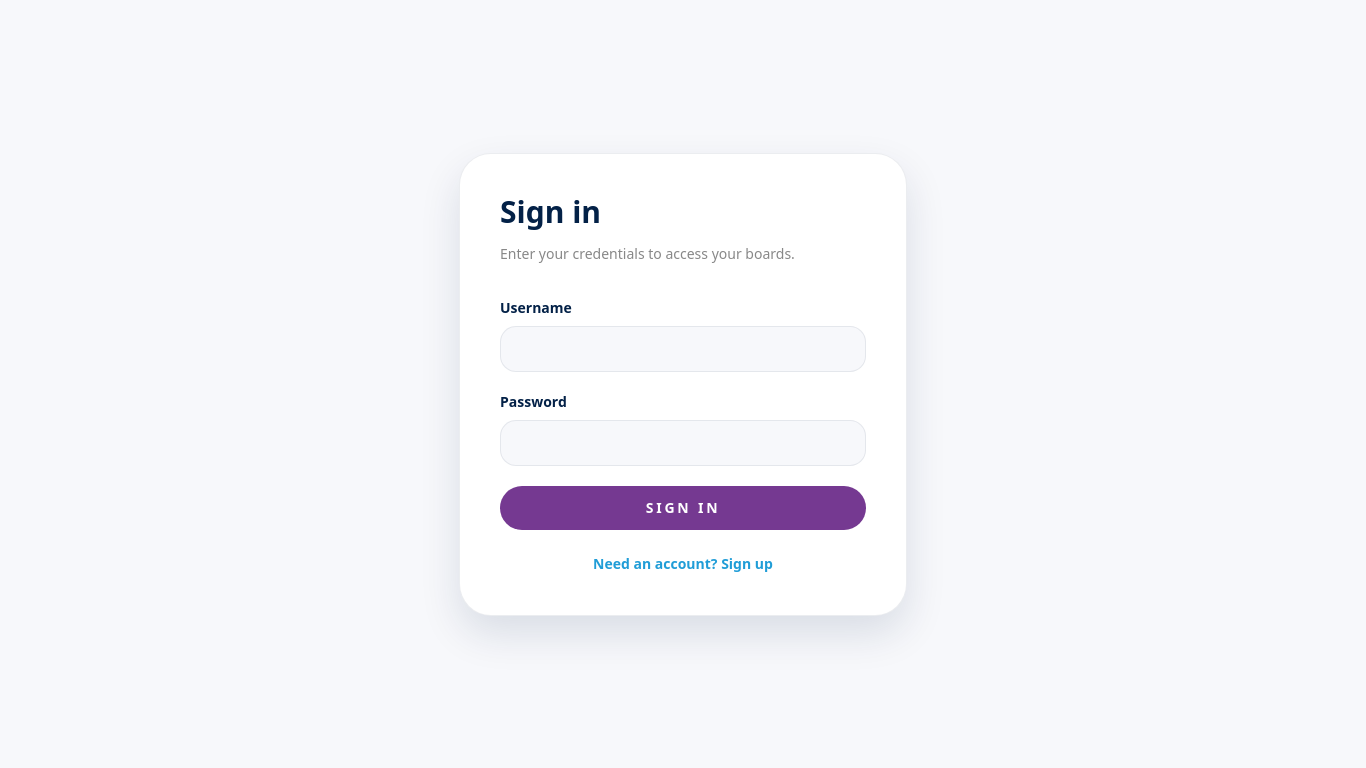
LoginGate › returns to login mode (not signup) after logging out
Expected: the heading "Sign in" is shown, [500,190,601,232]
Click the button "Need an account? Sign up" at {"x": 683, "y": 564}, box [500,554,866,574]
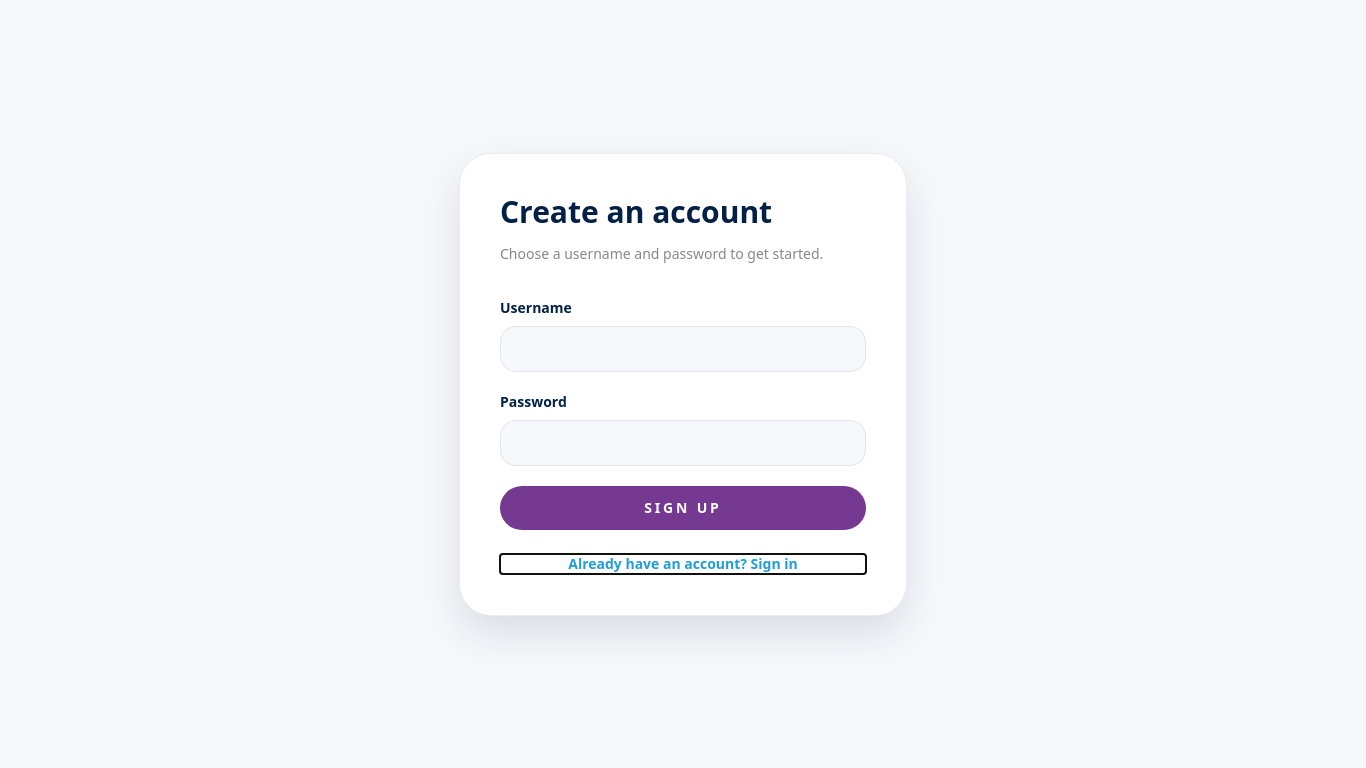
Type "newperson" into the field labelled "Username" at {"x": 683, "y": 348}, box [500,326,866,372]
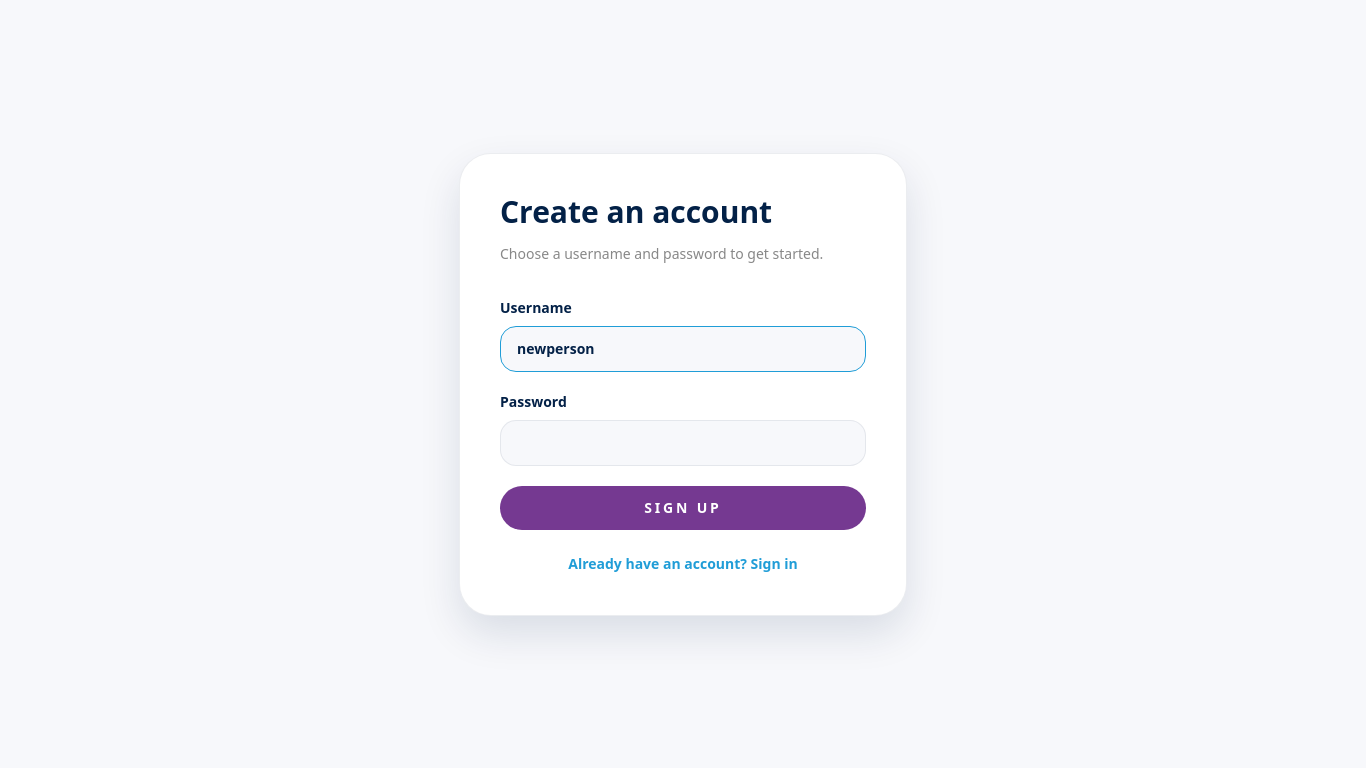
Type "password" into the password field labelled "Password" at {"x": 683, "y": 442}, box [500,420,866,466]
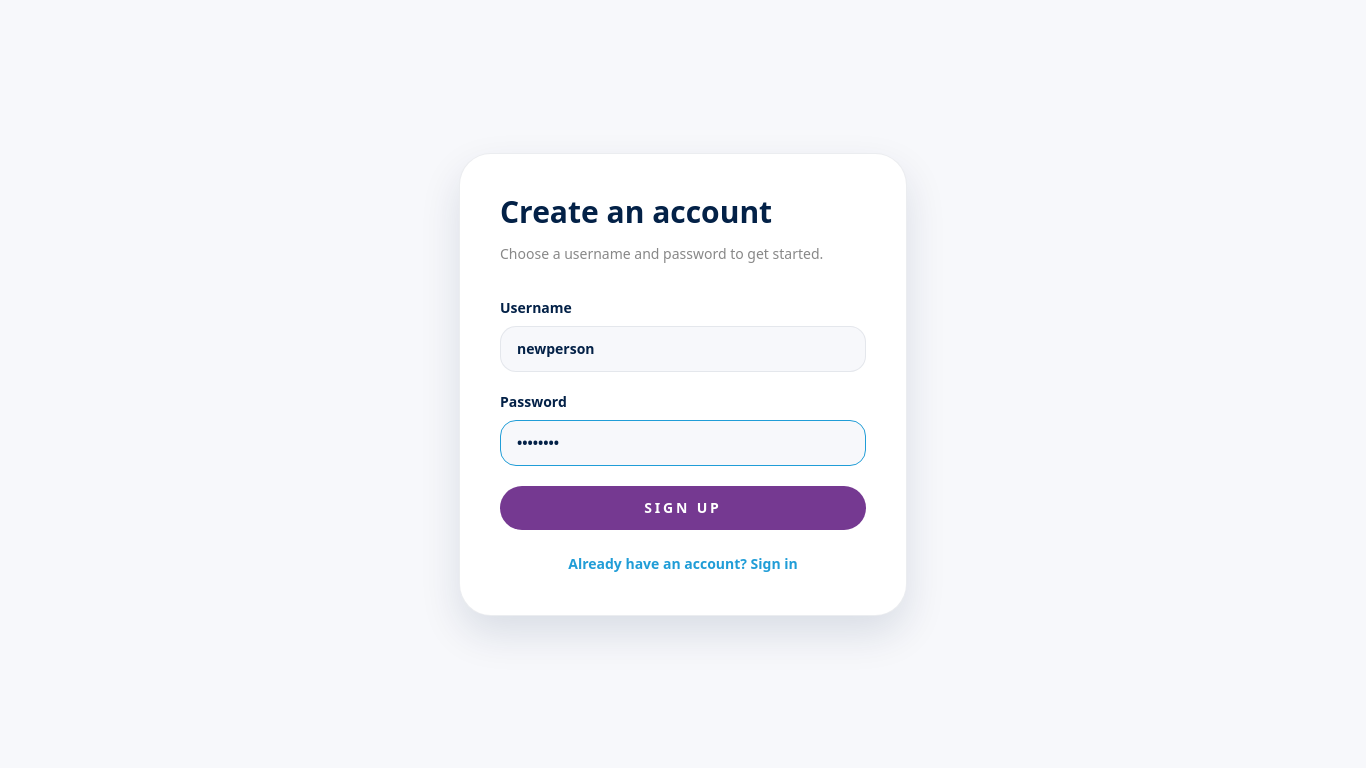
Click the button "Sign up" at {"x": 683, "y": 508}, box [500,486,866,530]
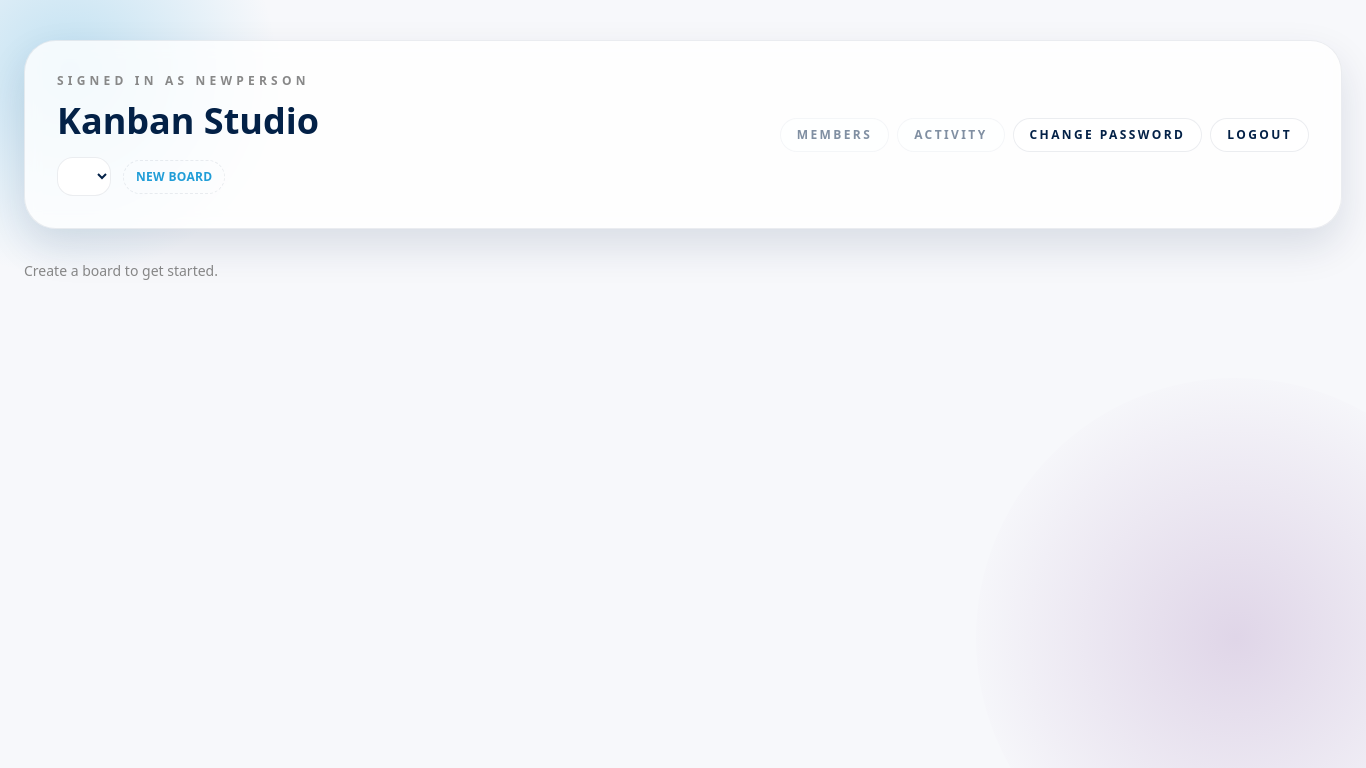
Click the button "Logout" at {"x": 1260, "y": 134}, box [1210,118,1309,152]
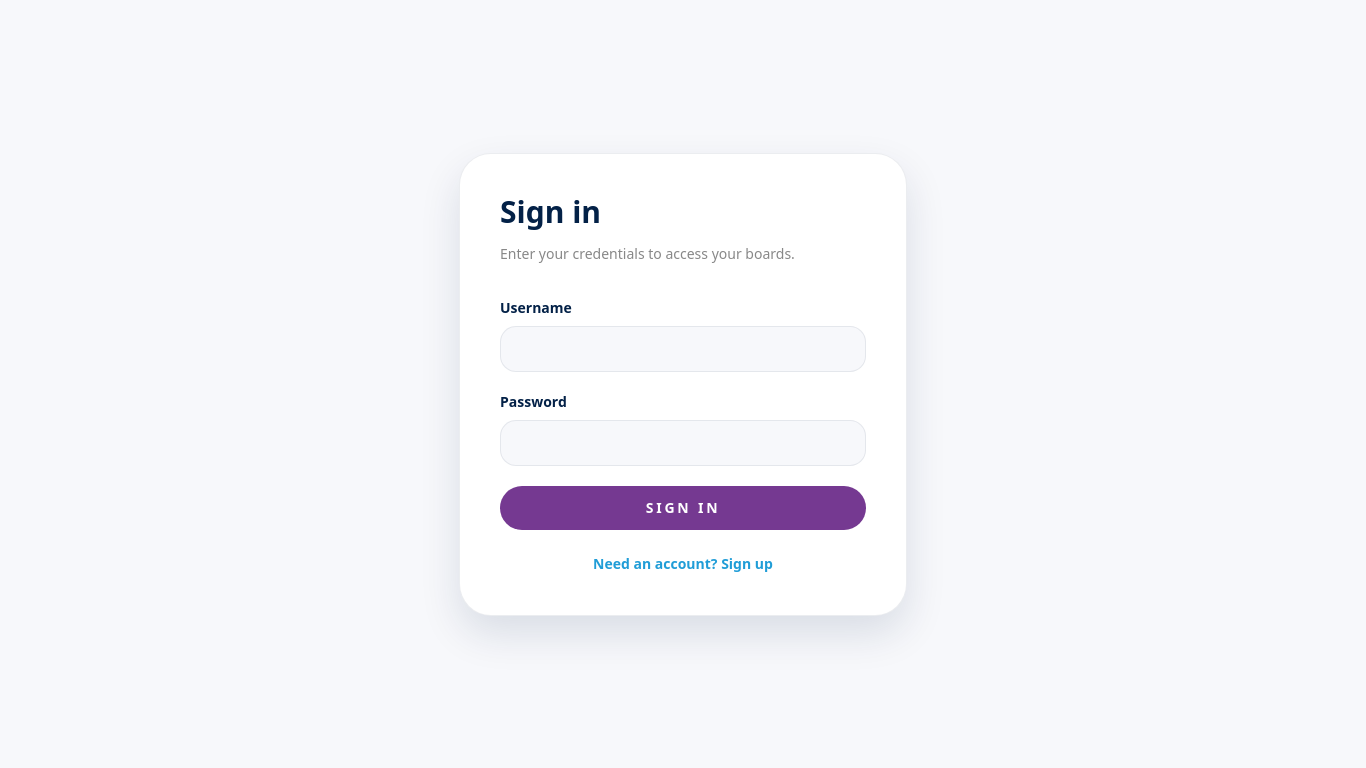
Result: the heading "Sign in" is shown at [500,190,601,232]
